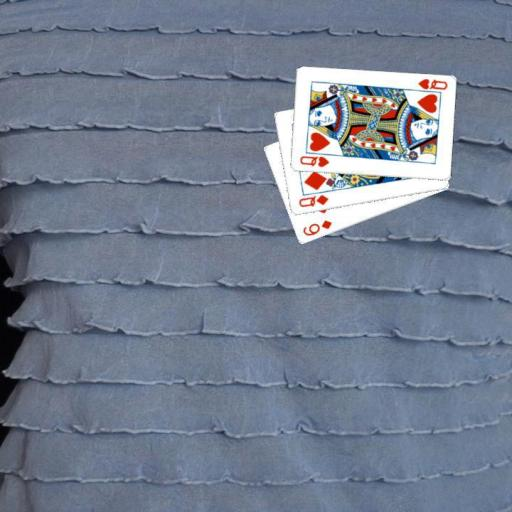6D: (299, 217, 333, 237)
QD: (295, 191, 330, 209)
QH: (410, 76, 449, 95), (296, 153, 330, 168)
